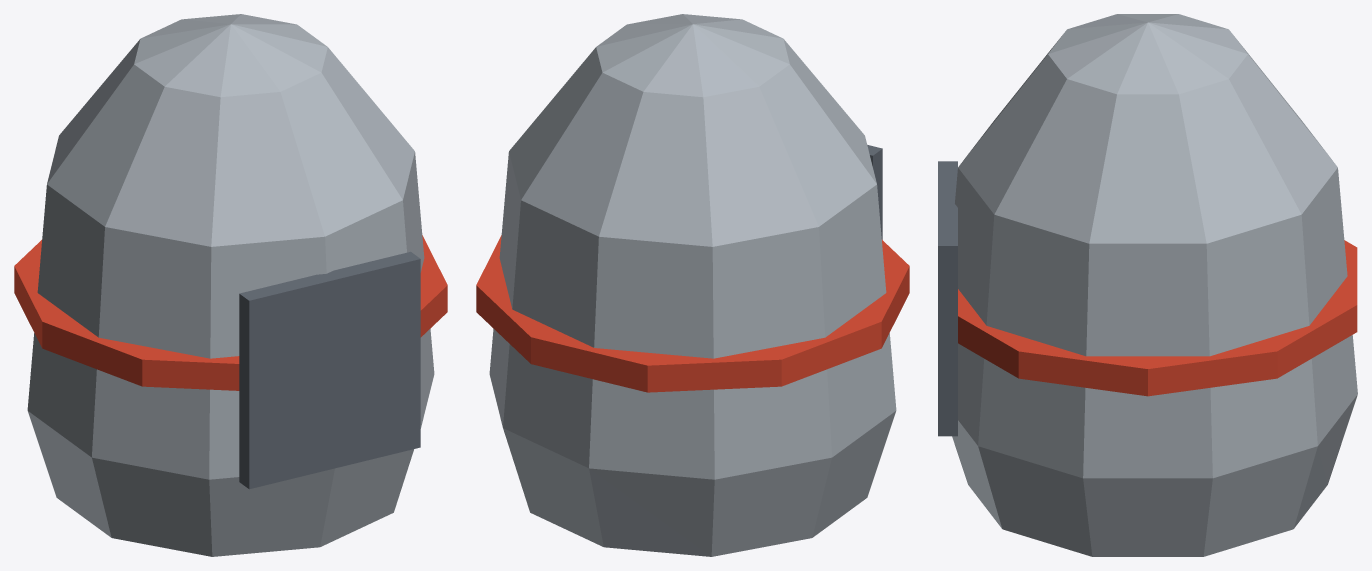
The model's file is transport_pod.obj.
3 views of the same model, side by side, from view 1: azimuth 30°, elevation 25°; view 2: azimuth 150°, elevation 25°; view 3: azimuth 270°, elevation 25° (orthographic).
Visible parts, largest first — view 1: transport_pod; view 2: transport_pod; view 3: transport_pod.
Part boxes in pixels (bbox=[...]): transport_pod: bbox=[14, 14, 447, 556]; transport_pod: bbox=[476, 14, 909, 556]; transport_pod: bbox=[938, 14, 1357, 556].
Bounding box in the file's own units: 0.88 × 1.02 × 0.84.
